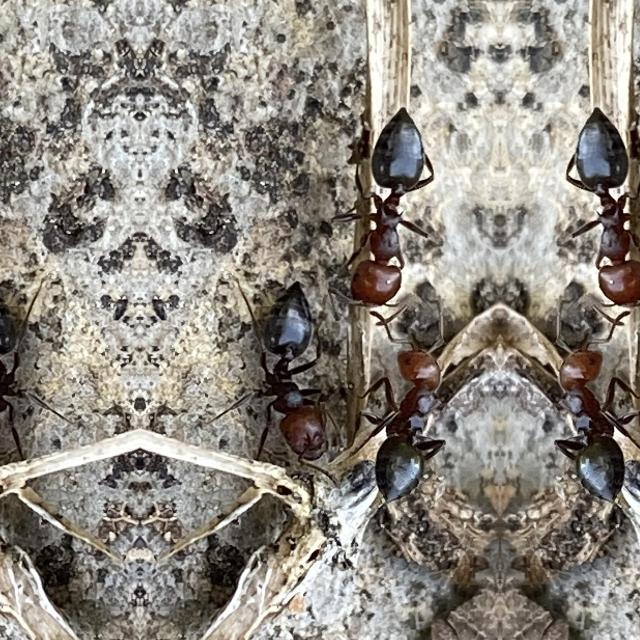Crematogaster: (232, 275, 342, 483), (334, 108, 440, 308), (348, 327, 460, 506), (538, 326, 640, 505), (558, 108, 640, 308), (0, 275, 46, 483)
